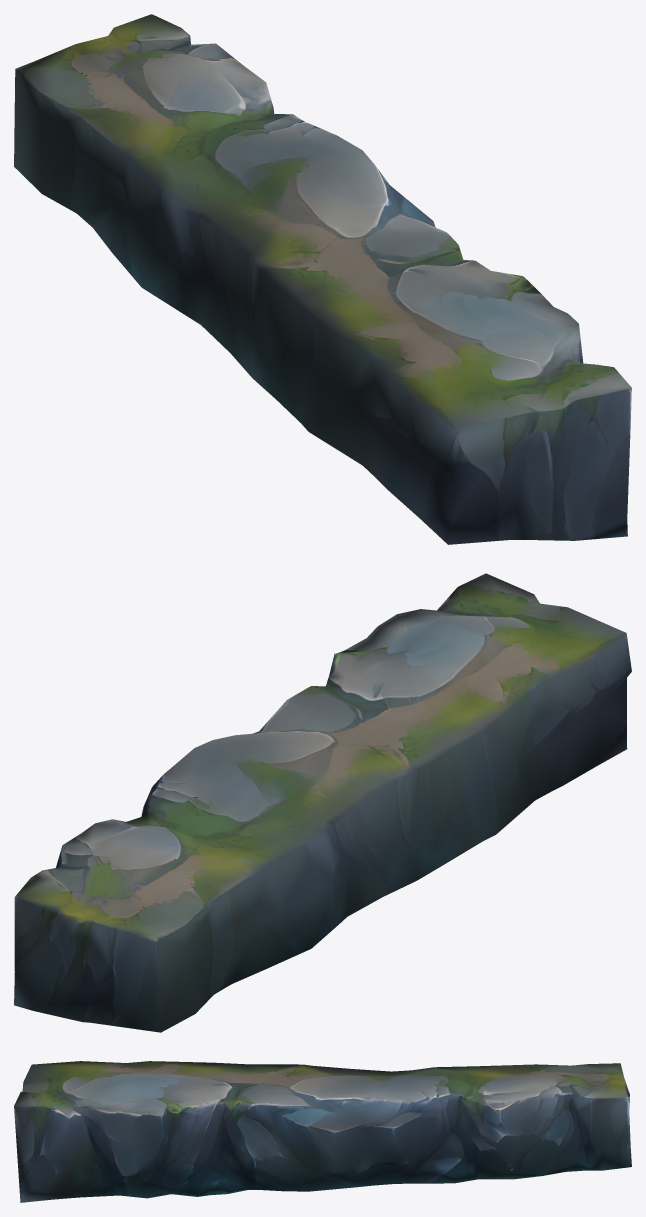
File: bo_song_48.glb
3 views of the same model, one above another, from view 1: azimuth 30°, elevation 25°; view 2: azimuth 150°, elevation 25°; view 3: azimuth 270°, elevation 25° (orthographic). The views are drawn at different scales.
Parts seen in each view (by area): view 1: tripo_node_940d2697-4ef5-472b-8f9d-df75525ff20b; view 2: tripo_node_940d2697-4ef5-472b-8f9d-df75525ff20b; view 3: tripo_node_940d2697-4ef5-472b-8f9d-df75525ff20b.
Boxes of the visible parts, x1,y1,x2,y2 form: tripo_node_940d2697-4ef5-472b-8f9d-df75525ff20b: (14, 14, 631, 544); tripo_node_940d2697-4ef5-472b-8f9d-df75525ff20b: (14, 573, 631, 1032); tripo_node_940d2697-4ef5-472b-8f9d-df75525ff20b: (14, 1061, 631, 1202).
Size of the model in its own units: 0.2416 by 0.2027 by 1.
Materials: 1 (1 with a texture image).
